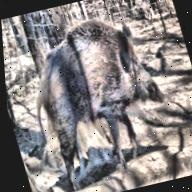boar: (0, 1, 188, 192)
